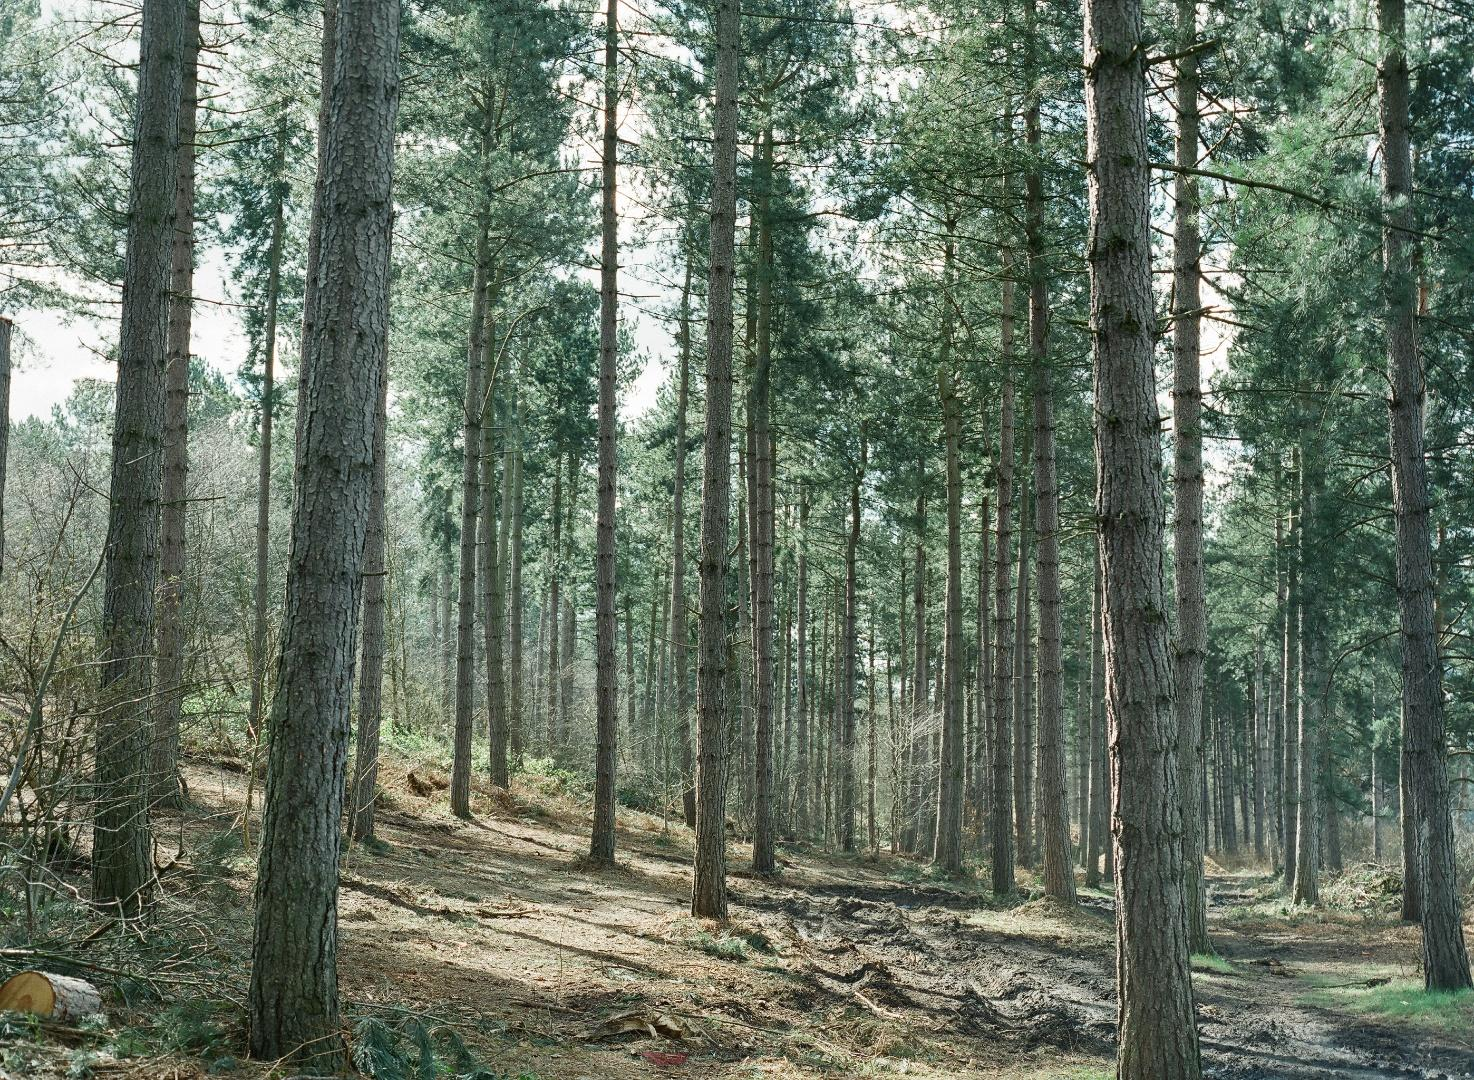glass: (629, 1053, 1001, 1080)
